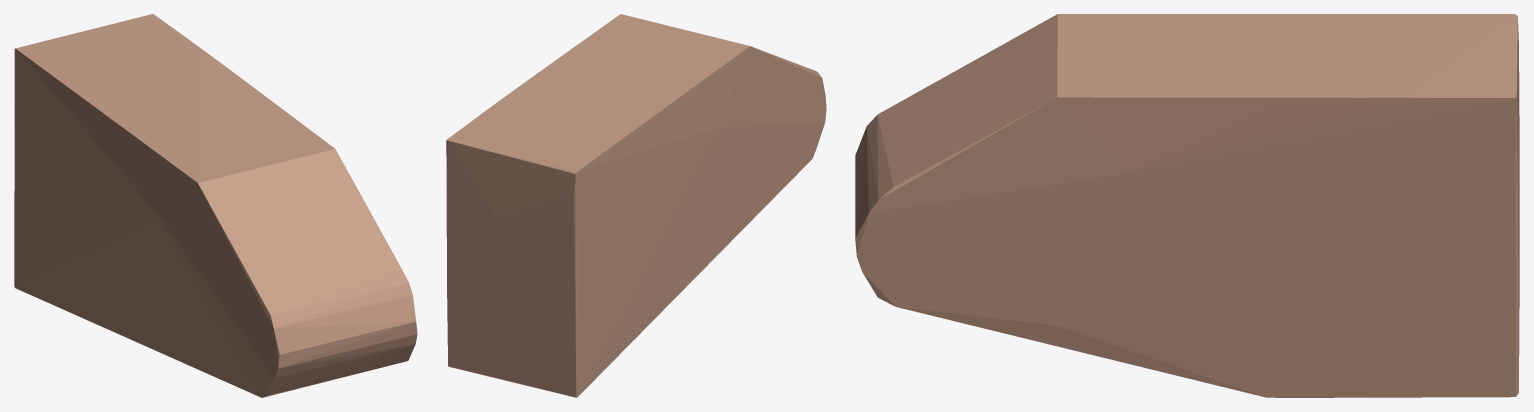
File: paperbag_a03.glb
The picture shows the model from 3 angles, left to right: view 1: azimuth 30°, elevation 25°; view 2: azimuth 150°, elevation 25°; view 3: azimuth 270°, elevation 25°; orthographic projection. The views are drawn at different scales.
Parts seen in each view (by area): view 1: geometry_0; view 2: geometry_0; view 3: geometry_0.
Boxes of the visible parts, x1,y1,x2,y2 form: geometry_0: (14,14,417,397); geometry_0: (446,14,826,397); geometry_0: (855,14,1519,397).
Size of the model in its own units: 0.1487 by 0.2402 by 0.48.
